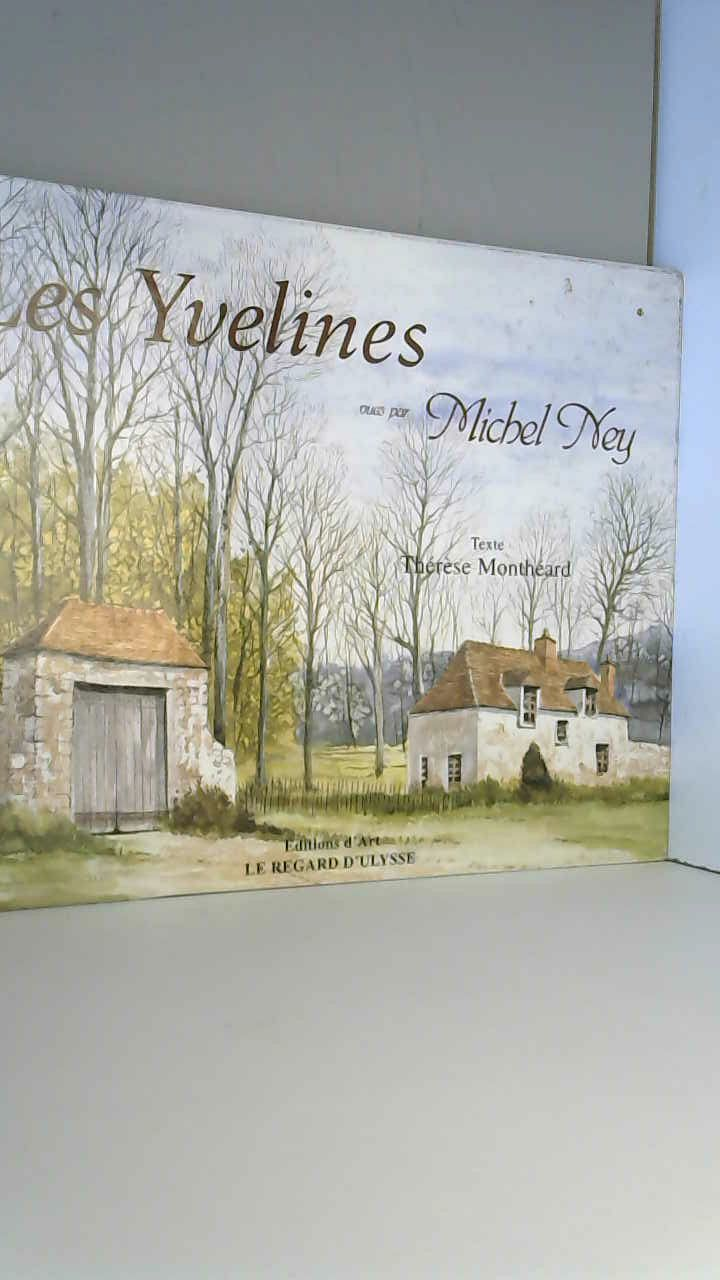book: (0, 161, 715, 935)
